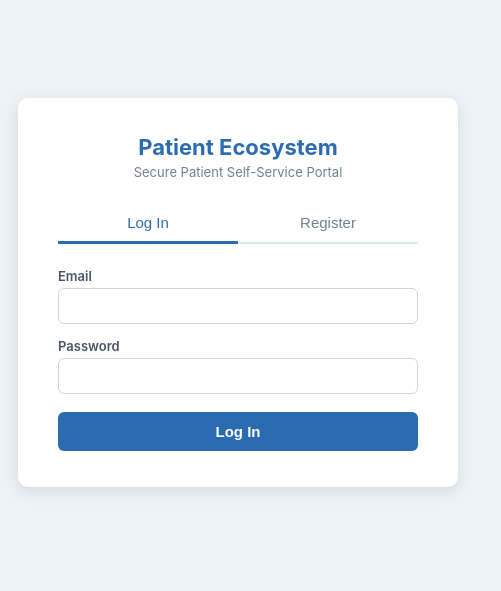
AuthPage › clears the error when switching tabs
This screenshot has width=501, height=591.
Type "bad@example.com" into the field labelled "Email".
click(238, 306); type("bad@example.com")  # box [58,288,418,324]
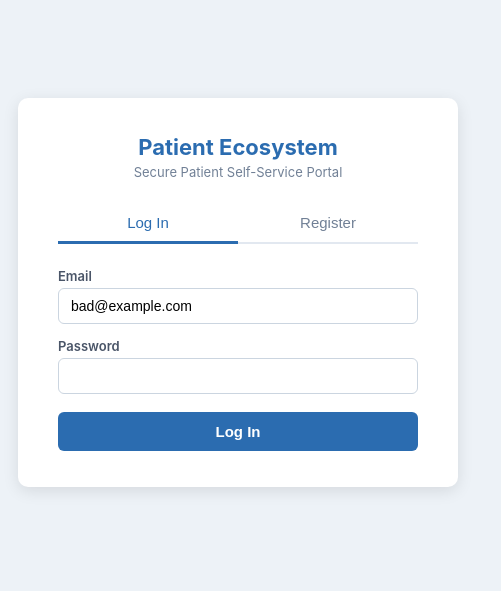
Type "wrong" into the password field labelled "Password".
click(238, 376); type("wrong")  # box [58,358,418,394]
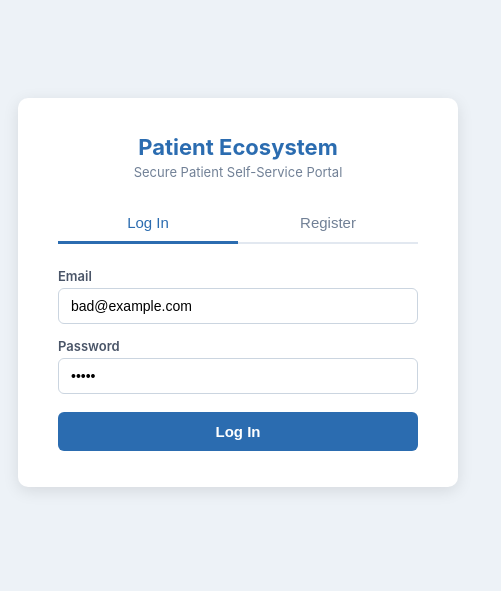
Click the button with test id "auth-submit".
click(238, 431)  # box [58,412,418,450]
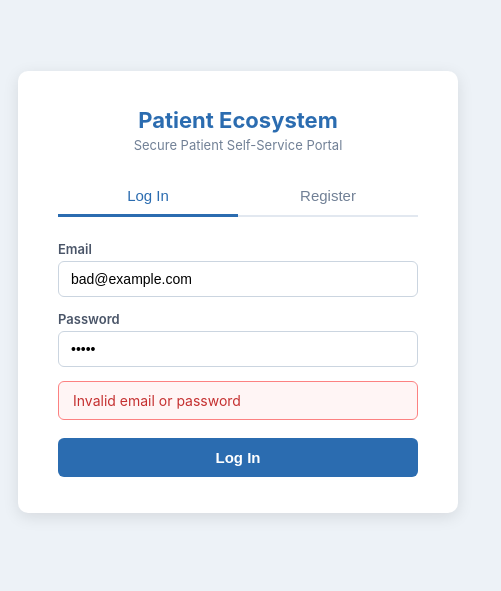
Result: the text "Invalid email or password" is shown at [58,381,418,420]
Click the button "Register".
click(328, 197)  # box [238,177,418,217]
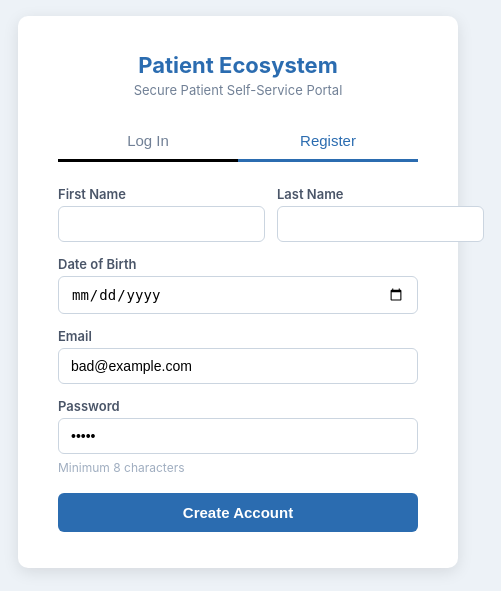
Result: the text "Invalid email or password" is gone
